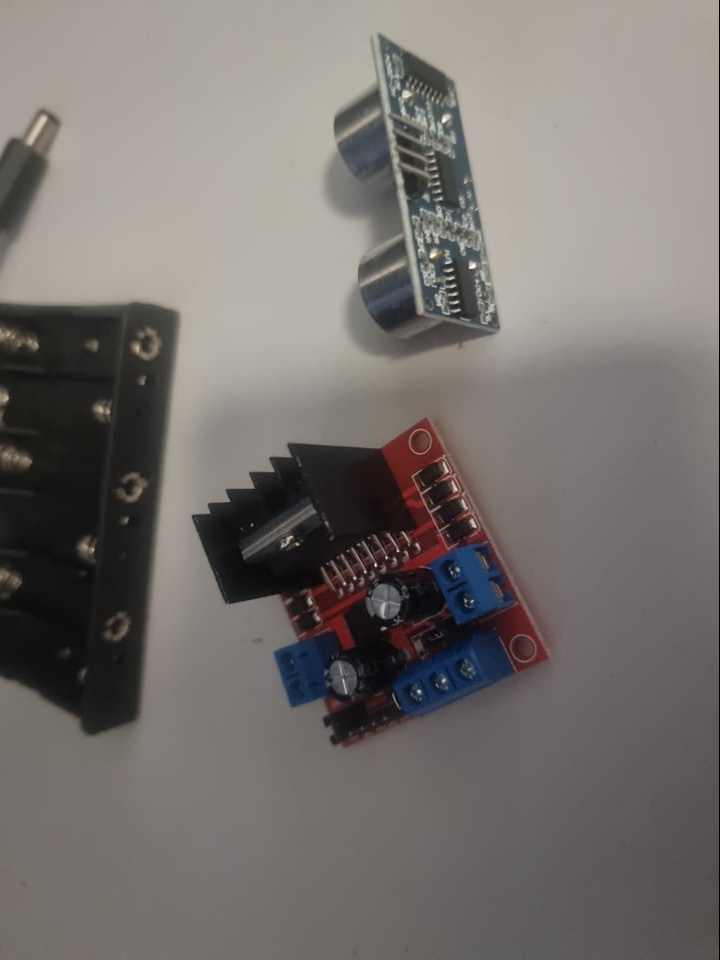BATTERY BOX: (1, 295, 178, 734)
MOTOR: (192, 417, 554, 755)
SENSOR: (329, 32, 509, 341)
